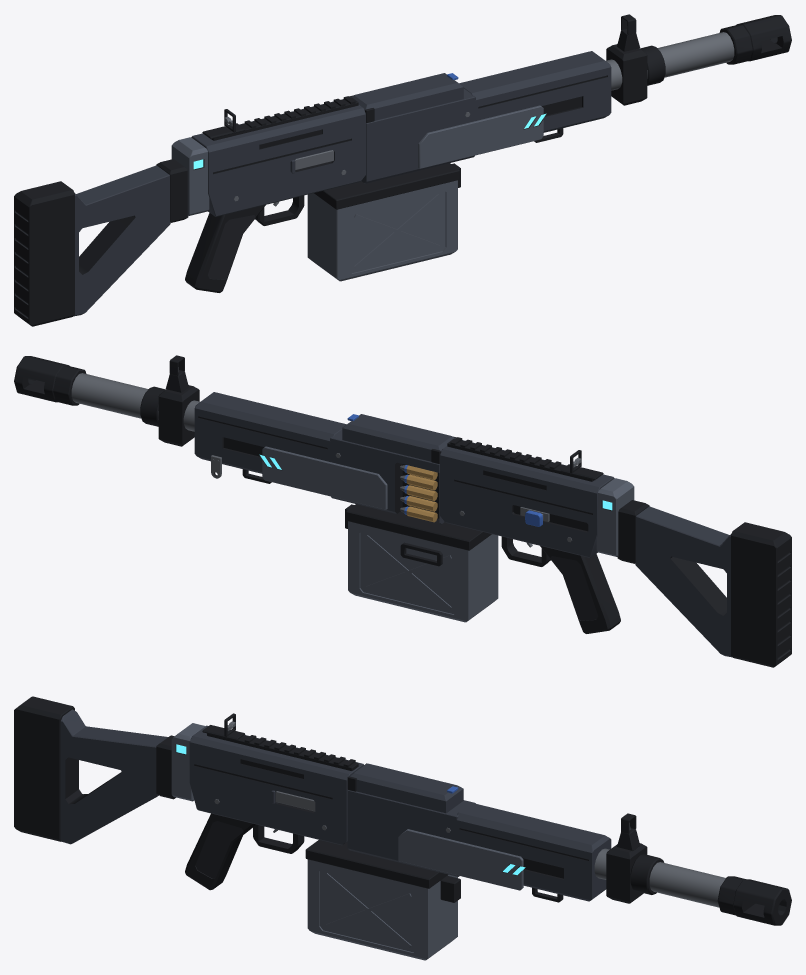
File: Odin.fbx
3 views of the same model, one above another, from view 1: azimuth 30°, elevation 25°; view 2: azimuth 150°, elevation 25°; view 3: azimuth 330°, elevation 25° (orthographic).
Parts seen in each view (by area): view 1: Receiver_Body, AmmoBox_Panel, Stock_Dark, Stock_Body, Receiver_Panel, Receiver_Dark, Barrel_Dark, FeedCover_Body, Sights_Dark, AmmoBox_Dark, Barrel_Metal, Grip_Dark (+1 smaller); view 2: Receiver_Body, AmmoBox_Panel, Stock_Dark, Stock_Body, Receiver_Panel, Receiver_Dark, AmmoBox_Dark, Barrel_Dark, FeedCover_Body, Sights_Dark, Barrel_Metal, Grip_Dark (+2 smaller); view 3: Receiver_Body, AmmoBox_Panel, Stock_Dark, Stock_Body, Receiver_Panel, Receiver_Dark, Barrel_Dark, AmmoBox_Dark, FeedCover_Body, Sights_Dark, Barrel_Metal, Grip_Dark (+2 smaller).
Boxes of the visible parts, x1,y1,x2,y2 form: Receiver_Body: [191, 51, 611, 216]; AmmoBox_Panel: [307, 180, 457, 281]; Stock_Dark: [14, 159, 188, 326]; Stock_Body: [74, 165, 170, 316]; Receiver_Panel: [171, 105, 543, 216]; Receiver_Dark: [193, 75, 607, 225]; Barrel_Dark: [640, 15, 791, 85]; FeedCover_Body: [350, 73, 463, 120]; Sights_Dark: [202, 14, 647, 138]; AmmoBox_Dark: [314, 163, 460, 209]; Barrel_Metal: [606, 32, 734, 90]; Grip_Dark: [185, 205, 265, 292]; Receiver_Body: [194, 392, 614, 557]; AmmoBox_Panel: [348, 521, 498, 622]; Stock_Dark: [617, 500, 791, 667]; Stock_Body: [635, 506, 731, 657]; Receiver_Panel: [262, 446, 634, 557]; Receiver_Dark: [198, 416, 612, 566]; AmmoBox_Dark: [345, 504, 491, 566]; Barrel_Dark: [14, 356, 165, 426]; FeedCover_Body: [342, 414, 455, 461]; Sights_Dark: [158, 355, 603, 479]; Barrel_Metal: [71, 373, 199, 431]; Grip_Dark: [540, 546, 620, 633]; Receiver_Body: [189, 725, 611, 901]; AmmoBox_Panel: [307, 859, 457, 960]; Stock_Dark: [14, 696, 175, 841]; Stock_Body: [60, 709, 167, 844]; Receiver_Panel: [171, 723, 523, 890]; Receiver_Dark: [175, 733, 588, 902]; Barrel_Dark: [630, 854, 791, 925]; AmmoBox_Dark: [305, 840, 460, 902]; FeedCover_Body: [350, 763, 463, 813]; Sights_Dark: [202, 713, 647, 903]; Barrel_Metal: [594, 848, 725, 907]; Grip_Dark: [185, 813, 255, 890].
Bounding box in the file's own units: 4.61 × 1.06 × 0.338.
